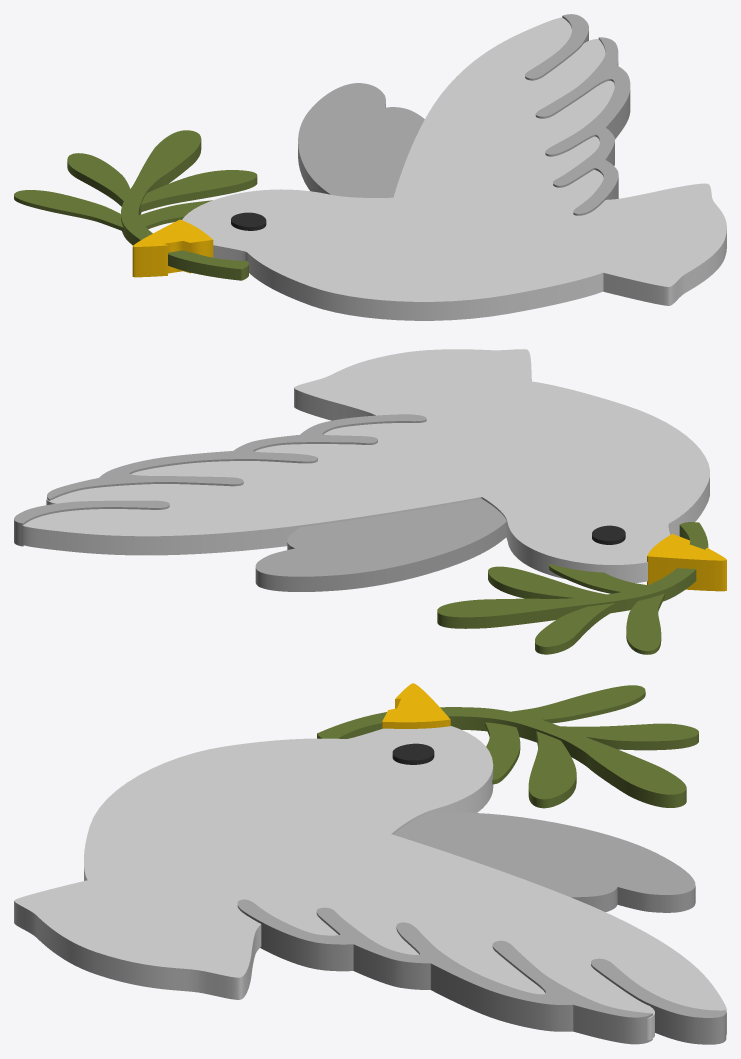
The model's file is emoji_u1f54a.glb.
3 renders of one model, top to bottom at view 1: azimuth 30°, elevation 25°; view 2: azimuth 150°, elevation 25°; view 3: azimuth 270°, elevation 25°, orthographic. The views are drawn at different scales.
Visible parts, largest first — view 1: emoji_u1f54a; view 2: emoji_u1f54a; view 3: emoji_u1f54a.
Boxes of the visible parts, <box> form: emoji_u1f54a: <box>14,14,726,320</box>; emoji_u1f54a: <box>14,349,726,654</box>; emoji_u1f54a: <box>14,683,726,1044</box>.
Size of the model in its own units: 0.0331 by 0.0016 by 0.029.
